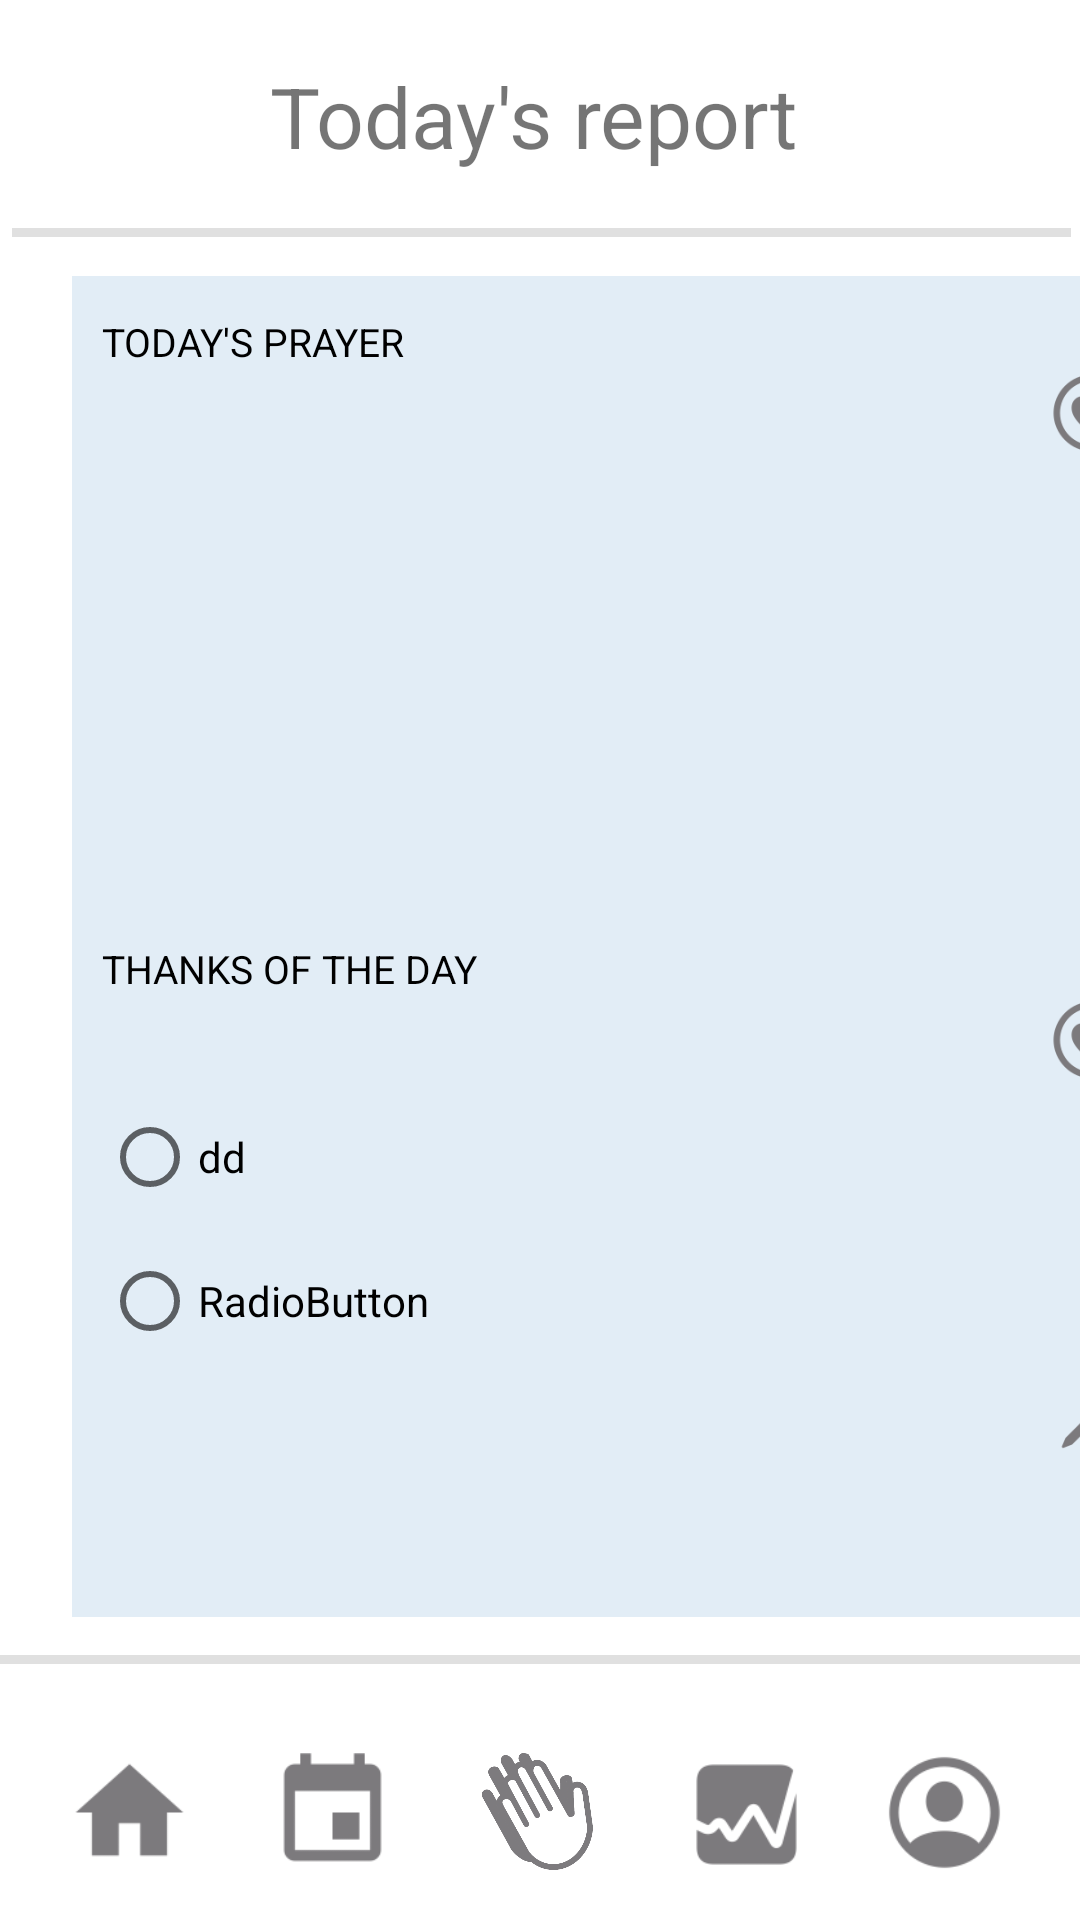

Point at icon controls on the screen. Image size 1080 × 1920, points as [x,y].
calendar button: [332,1807]
homebutton: [129,1810]
mypagebutton: [944,1812]
pray button: [537,1811]
summary button: [746,1814]
